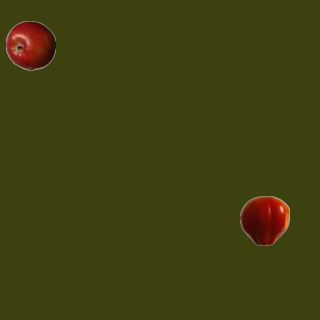Apple Braeburn: (5, 20, 55, 70)
Tomato 1: (239, 195, 289, 245)
